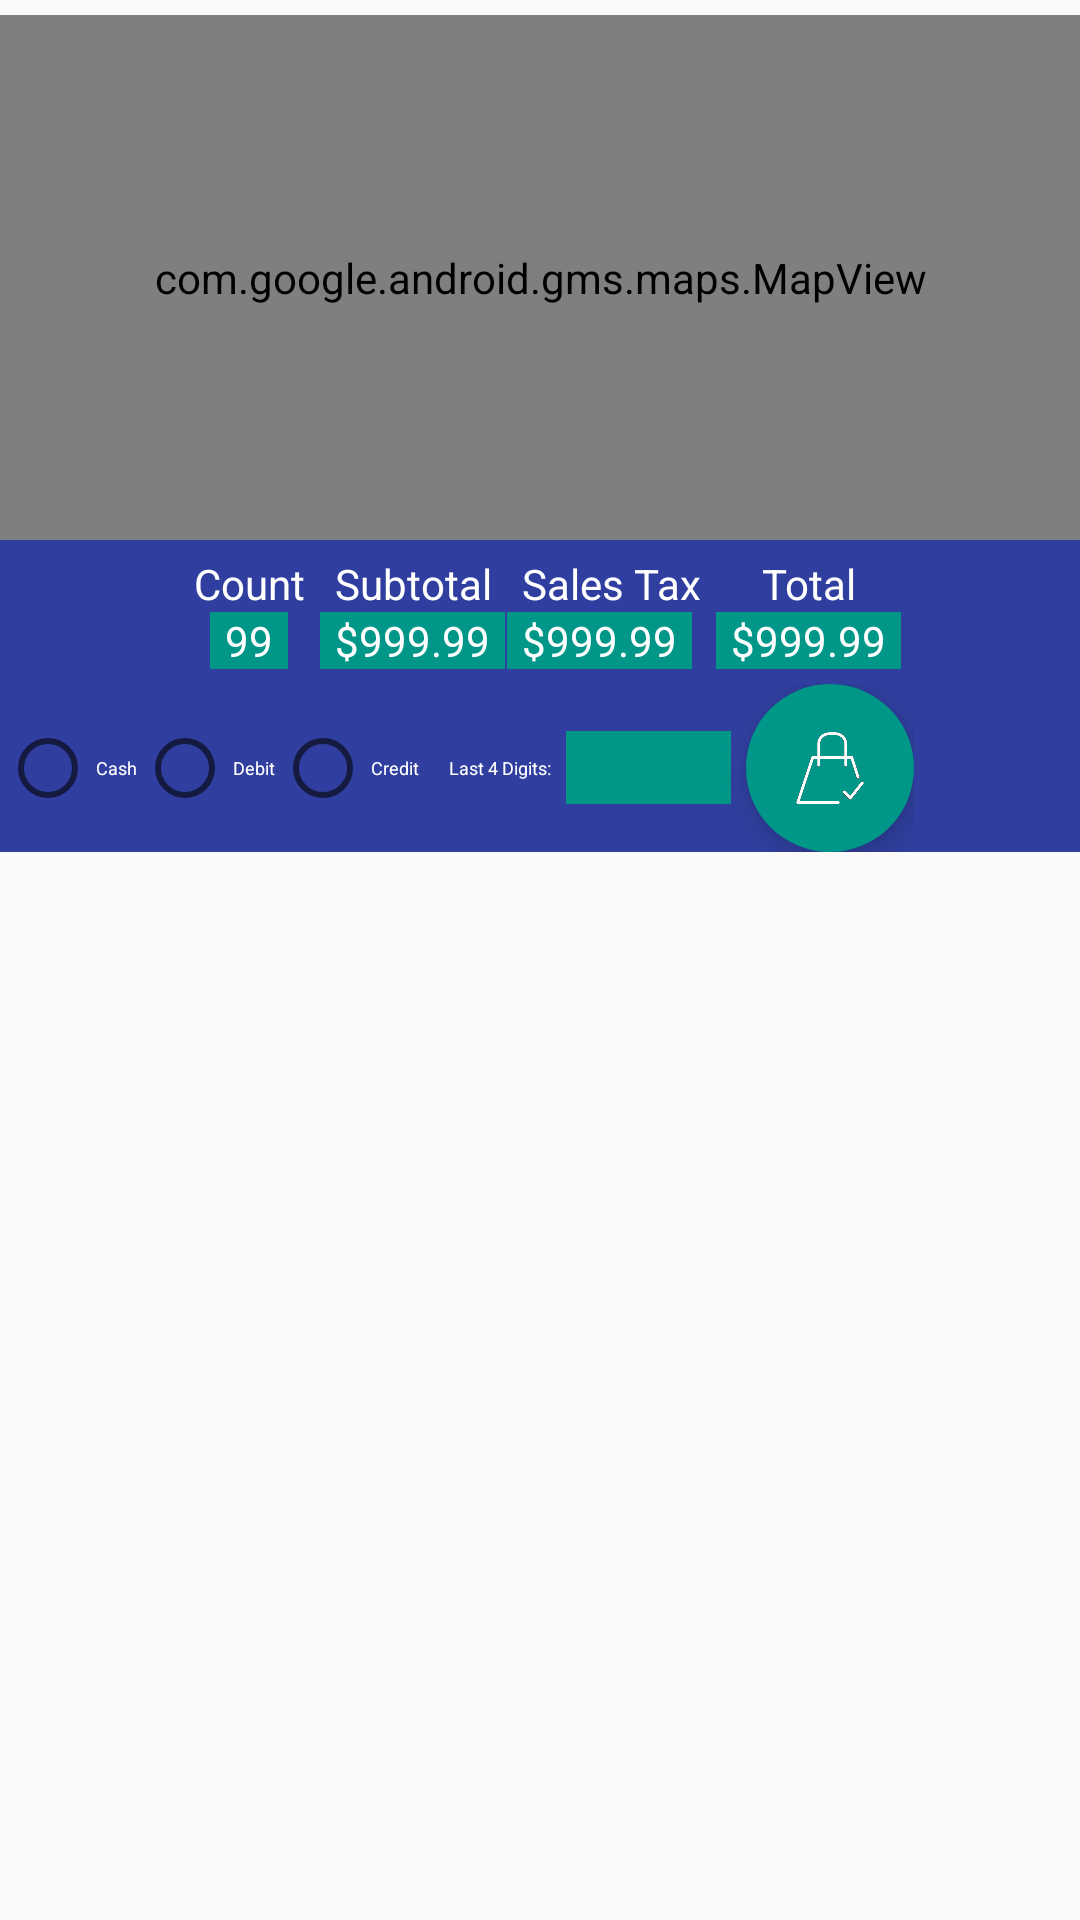

Locate icon controls on the screen. Image size 1080w x 1920h, boxes as Rect(x1, y1, x2, y2).
checkout: Rect(746, 684, 914, 852)
